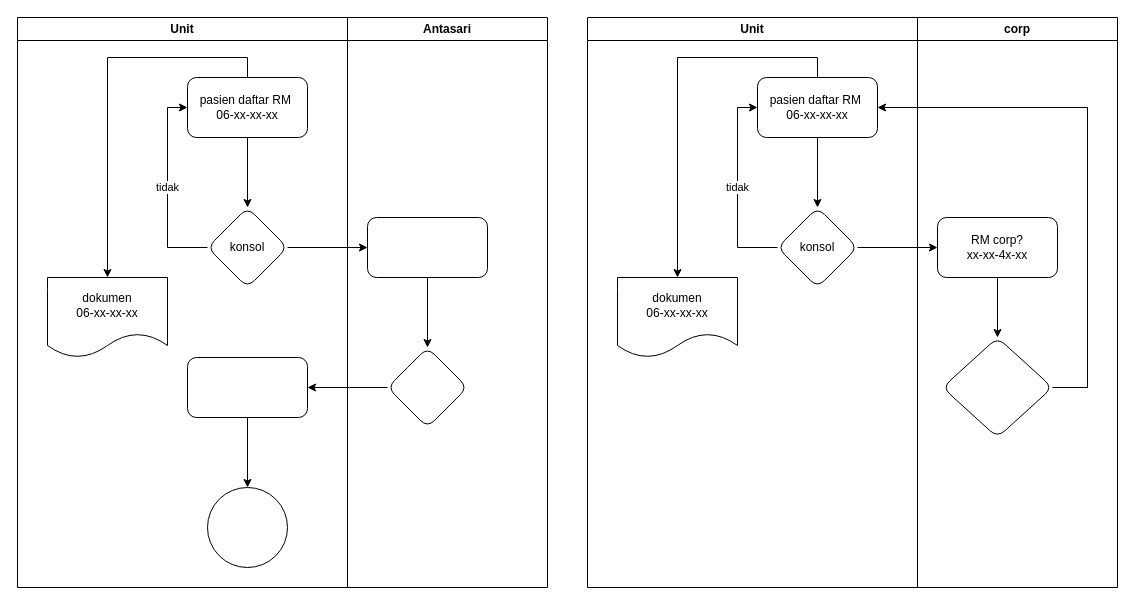
Some shapes in this 1135 by 605 pixel diagram are drawn without their labels. Here are the shapes that lost their labels. From the top down, the centre of each, then its label:
[427,247]: RM antasari ? xx-xx-4x-xx
[247,387]: RM xx-xx-4x-xx
[427,387]: kirim balik
[997,387]: update rm kon
[247,527]: non aktif rm 06-xx-xx-xx
